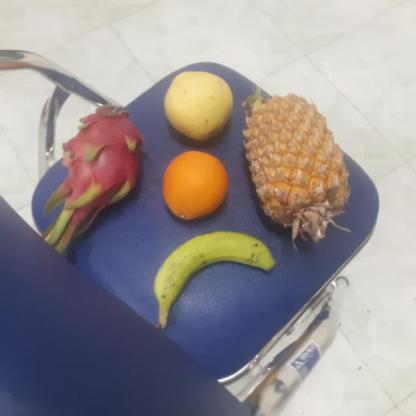banana: (153, 228, 274, 311)
orange: (159, 152, 229, 220)
pear: (161, 72, 234, 140)
pineapple: (238, 92, 348, 240)
pitaya: (59, 106, 143, 202)
